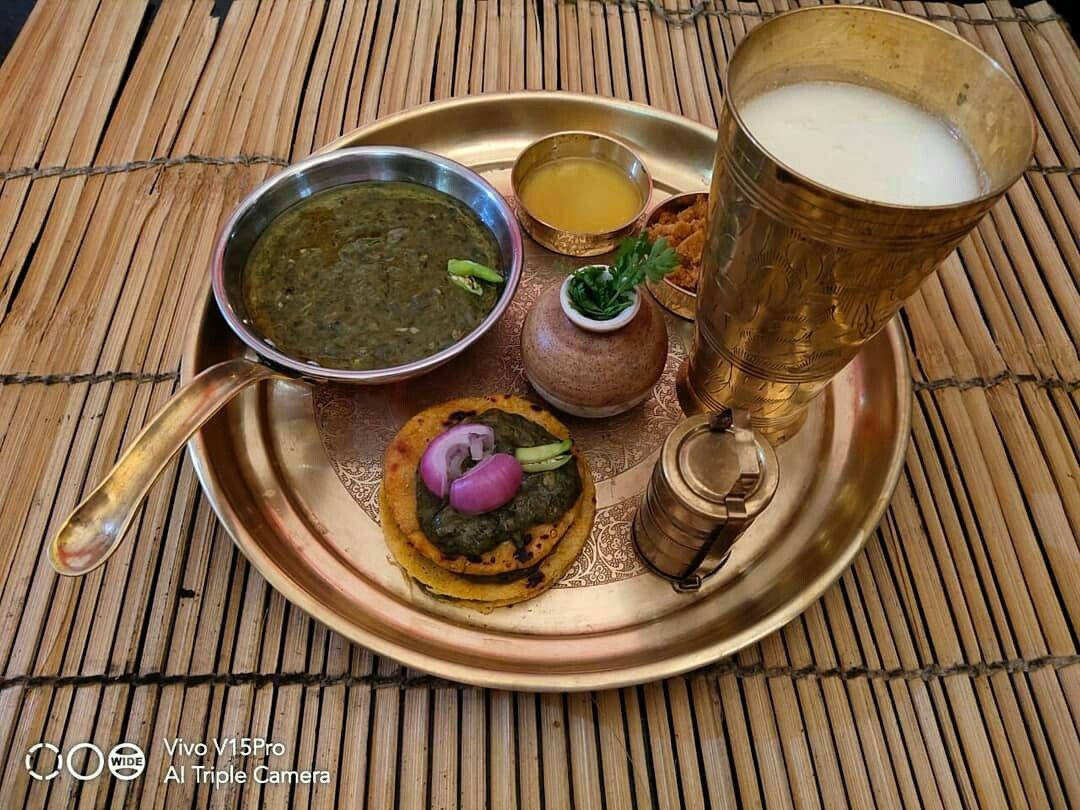saag: (243, 180, 508, 372)
